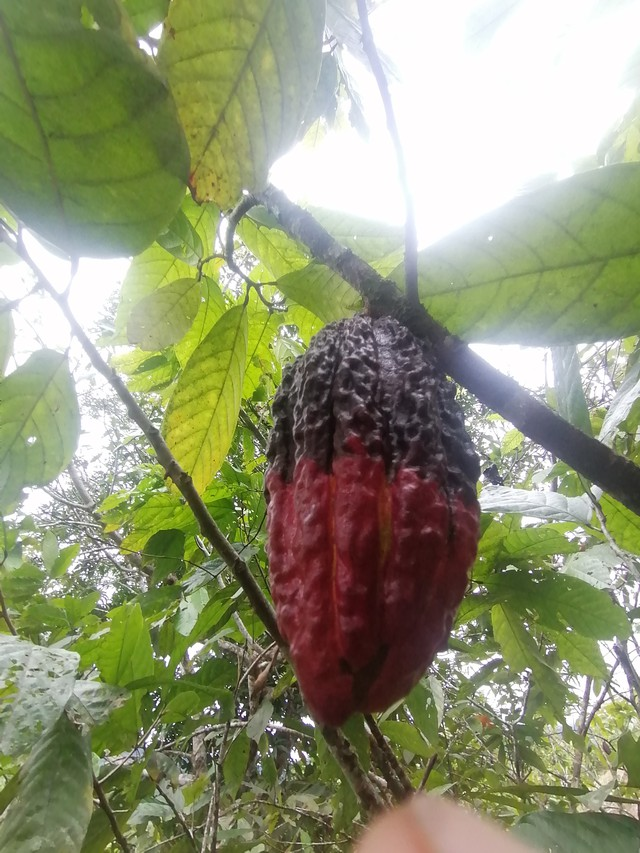phytophthora palmivora: (250, 302, 495, 734)
